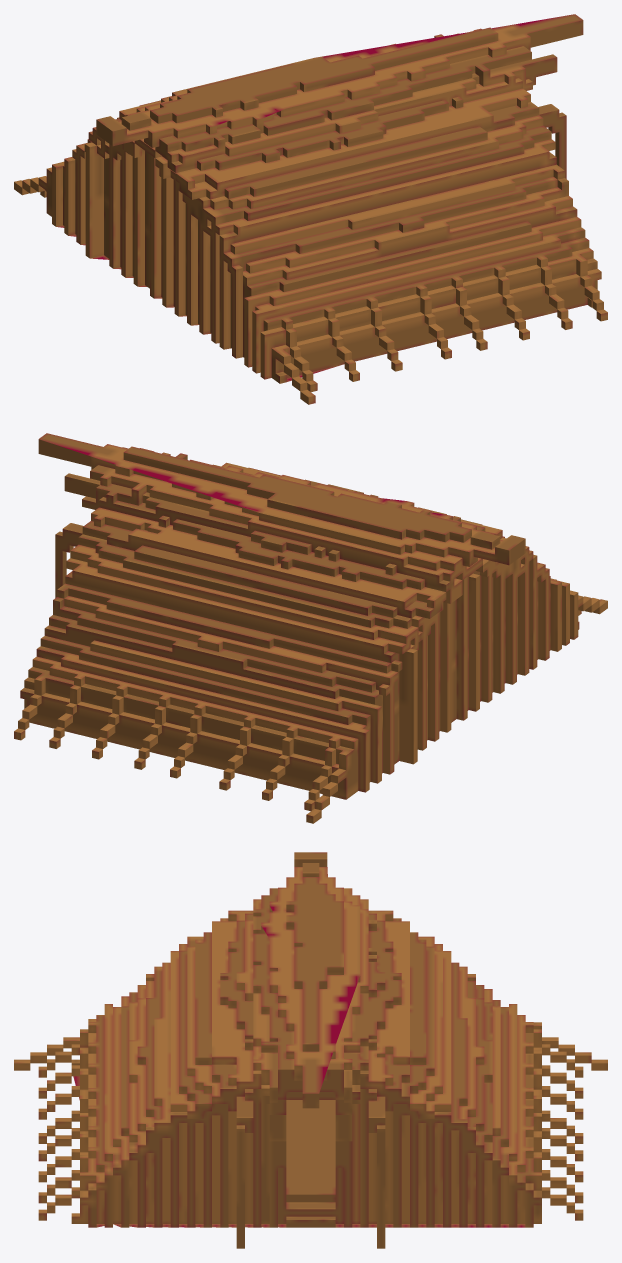
Rendered from Aborigen Home 2.fbx.
The picture shows the model from 3 angles, top to bottom: view 1: azimuth 30°, elevation 25°; view 2: azimuth 150°, elevation 25°; view 3: azimuth 270°, elevation 25°; orthographic projection.
Visible parts, largest first — view 1: Untitled; view 2: Untitled; view 3: Untitled.
Boxes of the visible parts, x1,y1,x2,y2 form: Untitled: (14, 14, 607, 404); Untitled: (14, 433, 607, 823); Untitled: (14, 852, 607, 1248).
Size of the model in its own units: 670 by 250 by 720.
